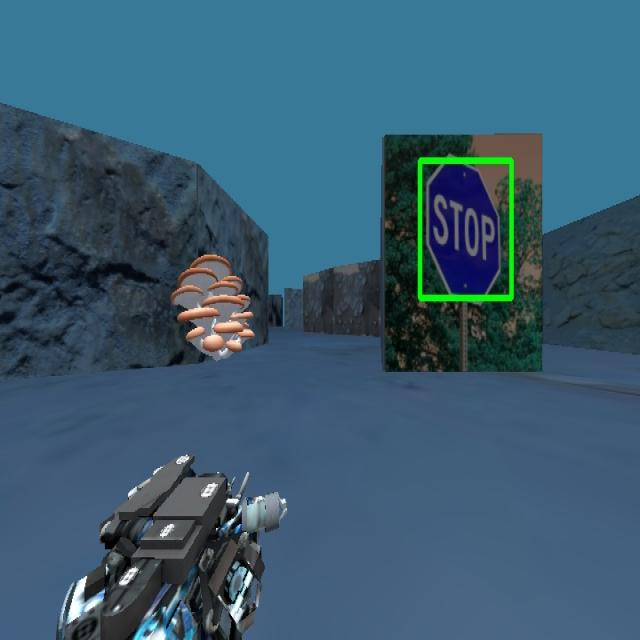Mushroom: (171, 252, 254, 357)
Stop_Sign: (416, 154, 515, 302)
